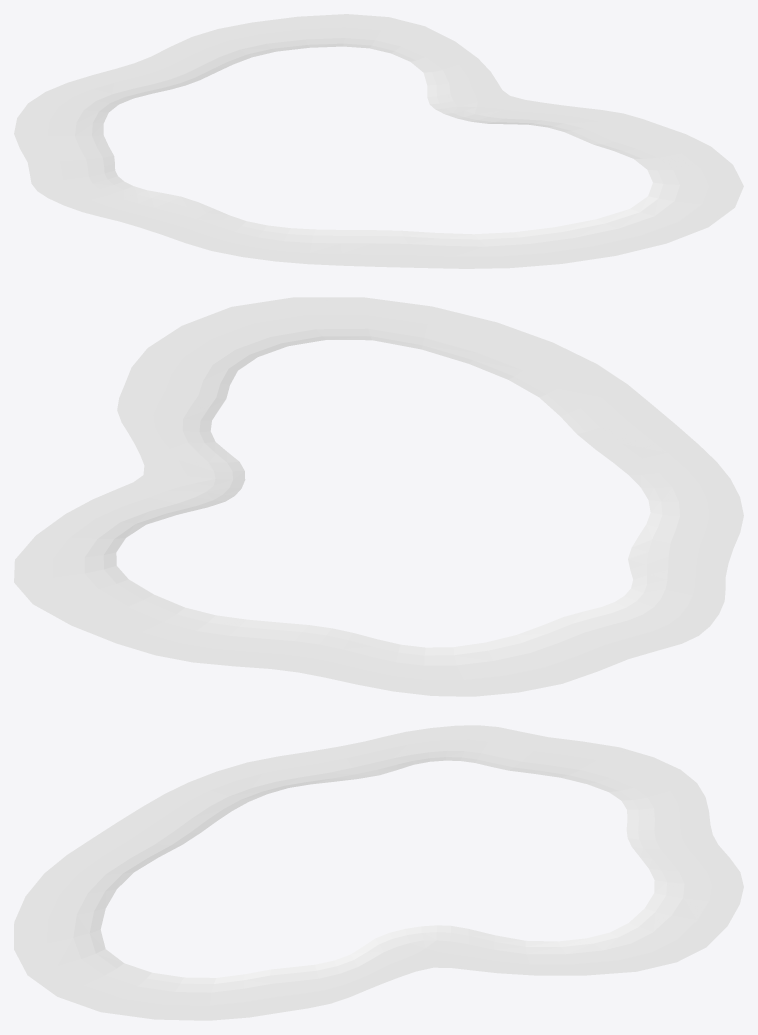
The model's file is guixianrendao_water02.FBX.
3 views of the same model, one above another, from view 1: azimuth 30°, elevation 25°; view 2: azimuth 150°, elevation 25°; view 3: azimuth 270°, elevation 25° (orthographic). The views are drawn at different scales.
Visible parts, largest first — view 1: guixianrendao_shuilang; view 2: guixianrendao_shuilang; view 3: guixianrendao_shuilang.
Part boxes in pixels (left/top/right/bottom): guixianrendao_shuilang: left=14, top=14, right=743, bottom=268; guixianrendao_shuilang: left=14, top=297, right=743, bottom=696; guixianrendao_shuilang: left=14, top=725, right=743, bottom=1020.
Bounding box in the file's own units: 139 × 0.7189 × 145.
